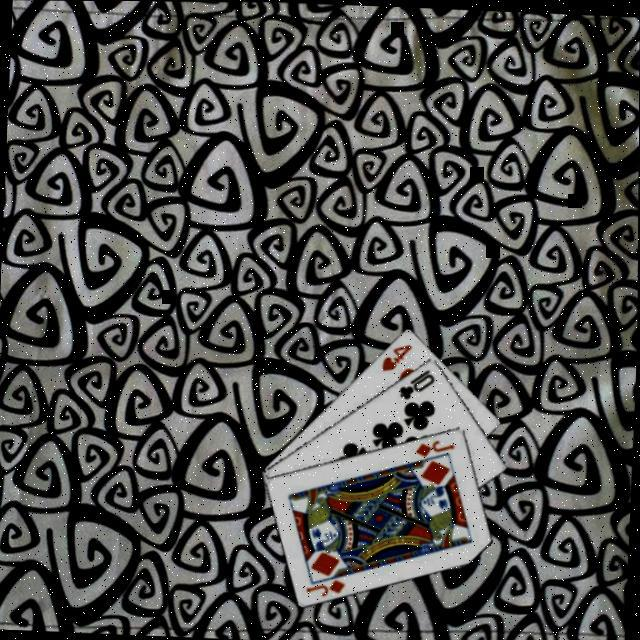10C: (394, 362, 436, 400)
4H: (377, 337, 412, 372)
JD: (411, 432, 456, 458), (302, 572, 346, 598)
